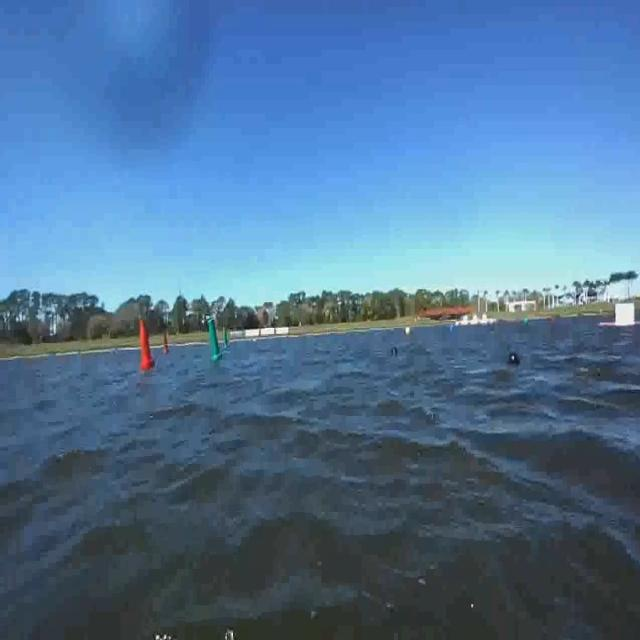black-buoy: (510, 351, 521, 365)
green-column-buoy: (206, 318, 224, 362), (223, 332, 228, 347)
red-column-buoy: (138, 320, 155, 370), (161, 333, 168, 355)
yellow-buoy: (406, 327, 413, 340)
